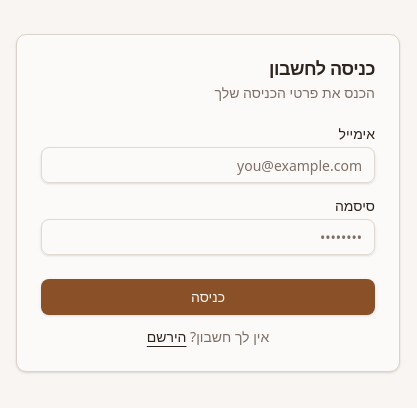
LoginPage › shows generic error for non-401 server errors
Type "user@example.com" into the field labelled "אימייל" at coordinates (208, 165), box [41,147,375,183]
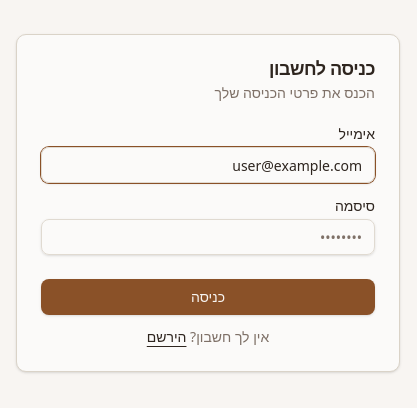
Type "password123" into the password field labelled "סיסמה" at coordinates (208, 237), box [41,219,375,255]
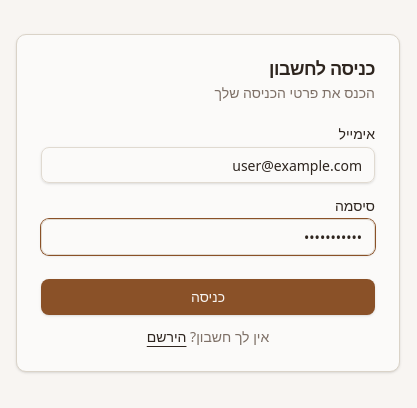
Submit the form "כניסה", box [17,127,399,371]
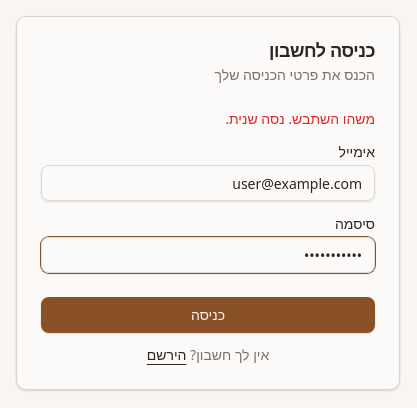
Check: the text "משהו השתבש. נסה שנית." is shown, box [225,109,375,128]
